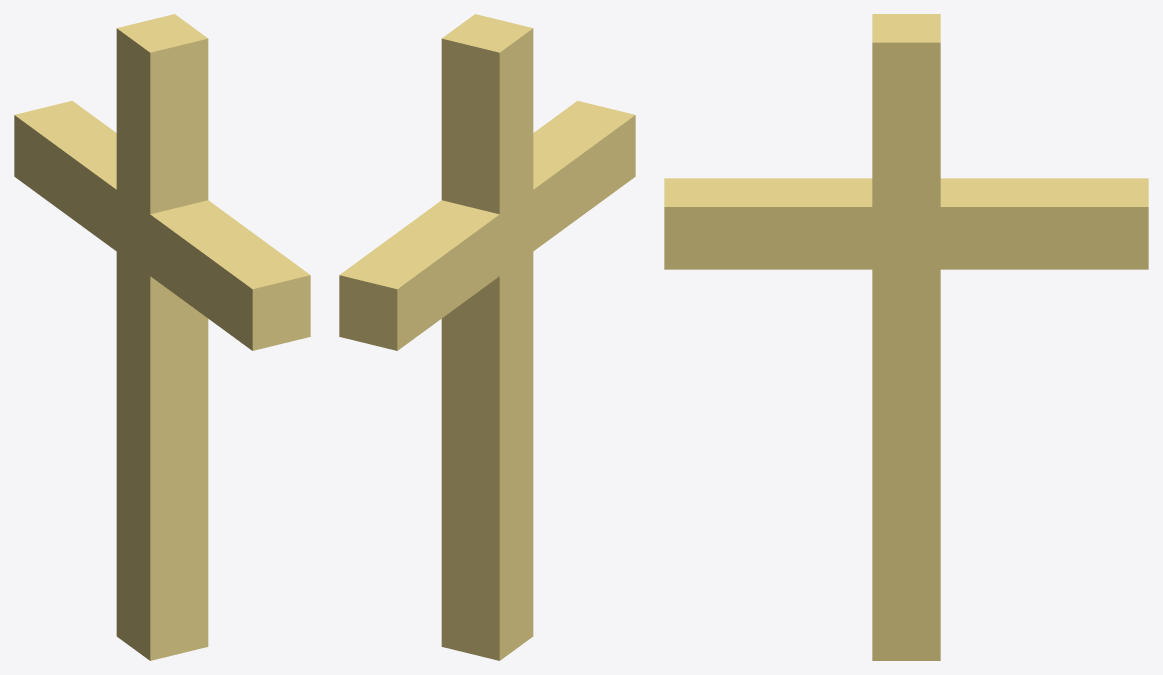
Rendered from fbx_Cruz.fbx.
The picture shows the model from 3 angles, left to right: view 1: azimuth 30°, elevation 25°; view 2: azimuth 150°, elevation 25°; view 3: azimuth 270°, elevation 25°; orthographic projection.
Parts seen in each view (by area): view 1: pCube21; view 2: pCube21; view 3: pCube21.
Part boxes in pixels (left/top/right/bottom): pCube21: left=14, top=14, right=310, bottom=660; pCube21: left=339, top=14, right=635, bottom=660; pCube21: left=664, top=14, right=1148, bottom=660.
Bounding box in the file's own units: 2 × 20 × 14.2.
1 material, 1 textured.
